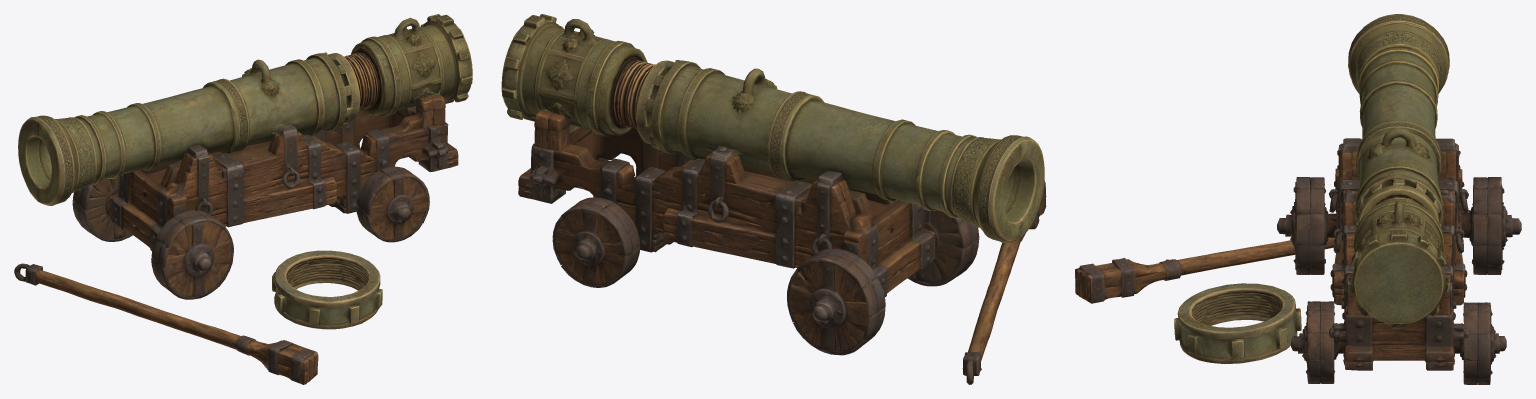
The model's file is Şahi topu.glb.
3 views of the same model, side by side, from view 1: azimuth 30°, elevation 25°; view 2: azimuth 150°, elevation 25°; view 3: azimuth 270°, elevation 25° (orthographic). The views are drawn at different scales.
Visible parts, largest first — view 1: tripo_node_930bbda3-90ec-4949-9ef2-450f7ed1d773; view 2: tripo_node_930bbda3-90ec-4949-9ef2-450f7ed1d773; view 3: tripo_node_930bbda3-90ec-4949-9ef2-450f7ed1d773.
Boxes of the visible parts, <box> form: tripo_node_930bbda3-90ec-4949-9ef2-450f7ed1d773: <box>14,14,472,384</box>; tripo_node_930bbda3-90ec-4949-9ef2-450f7ed1d773: <box>501,14,1046,384</box>; tripo_node_930bbda3-90ec-4949-9ef2-450f7ed1d773: <box>1075,14,1521,384</box>.
Bounding box in the file's own units: 0.9801 × 0.4586 × 0.8093.
Materials: 1 (1 with a texture image).
